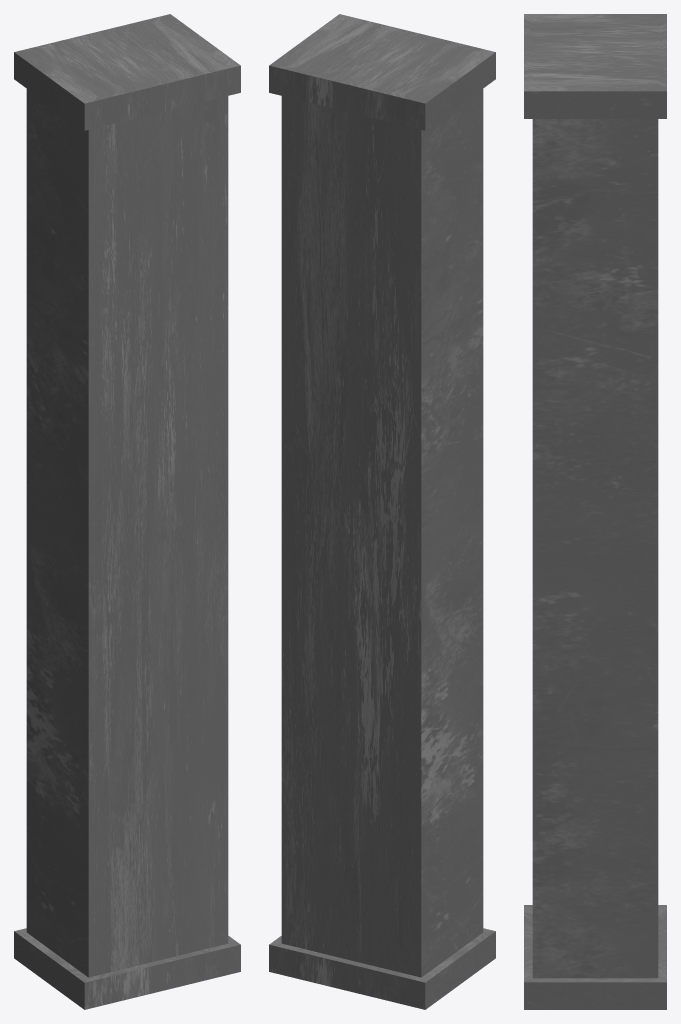
File: WALL BASEMENT 6.fbx
The picture shows the model from 3 angles, left to right: view 1: azimuth 30°, elevation 25°; view 2: azimuth 150°, elevation 25°; view 3: azimuth 270°, elevation 25°; orthographic projection.
Visible parts, largest first — view 1: WALL BASEMENT 6; view 2: WALL BASEMENT 6; view 3: WALL BASEMENT 6.
Boxes of the visible parts, x1,y1,x2,y2 form: WALL BASEMENT 6: [14, 14, 240, 1009]; WALL BASEMENT 6: [269, 14, 495, 1009]; WALL BASEMENT 6: [524, 14, 666, 1009].
Bounding box in the file's own units: 0.4722 × 2.62 × 0.3687.
